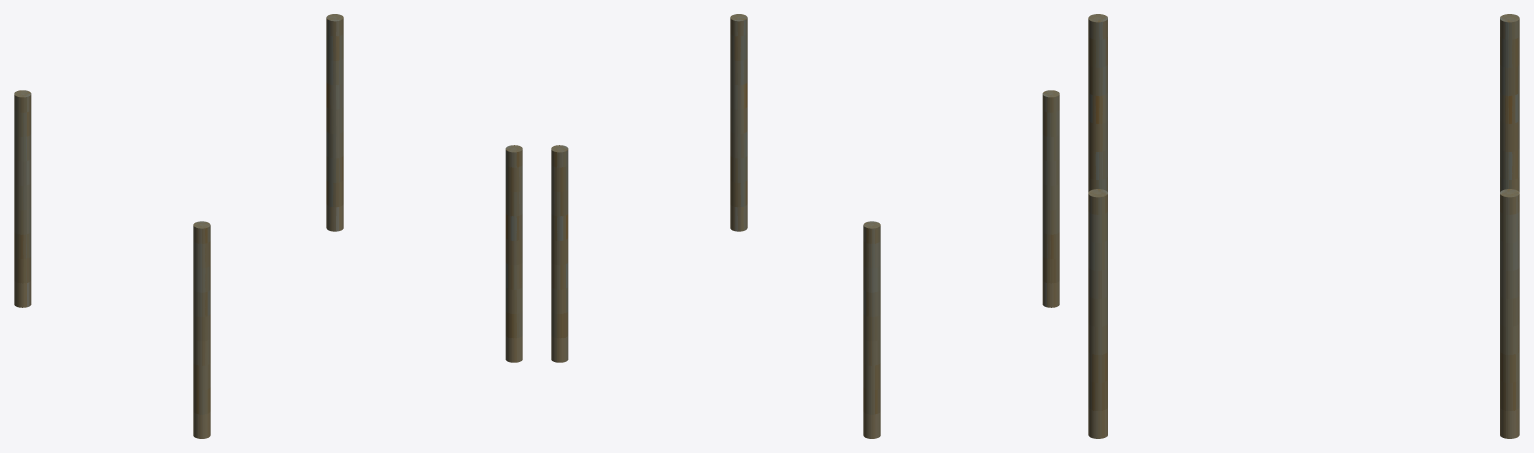
The model's file is tubes_01.fbx.
3 renders of one model, left to right at view 1: azimuth 30°, elevation 25°; view 2: azimuth 150°, elevation 25°; view 3: azimuth 270°, elevation 25°, orthographic. The views are drawn at different scales.
Visible parts, largest first — view 1: tubes_01; view 2: tubes_01; view 3: tubes_01.
Boxes of the visible parts, x1,y1,x2,y2 form: tubes_01: [14, 14, 522, 438]; tubes_01: [551, 14, 1059, 438]; tubes_01: [1088, 14, 1519, 438].
Bounding box in the file's own units: 2865 × 1761 × 2848.
Materials: 1 (1 with a texture image).
